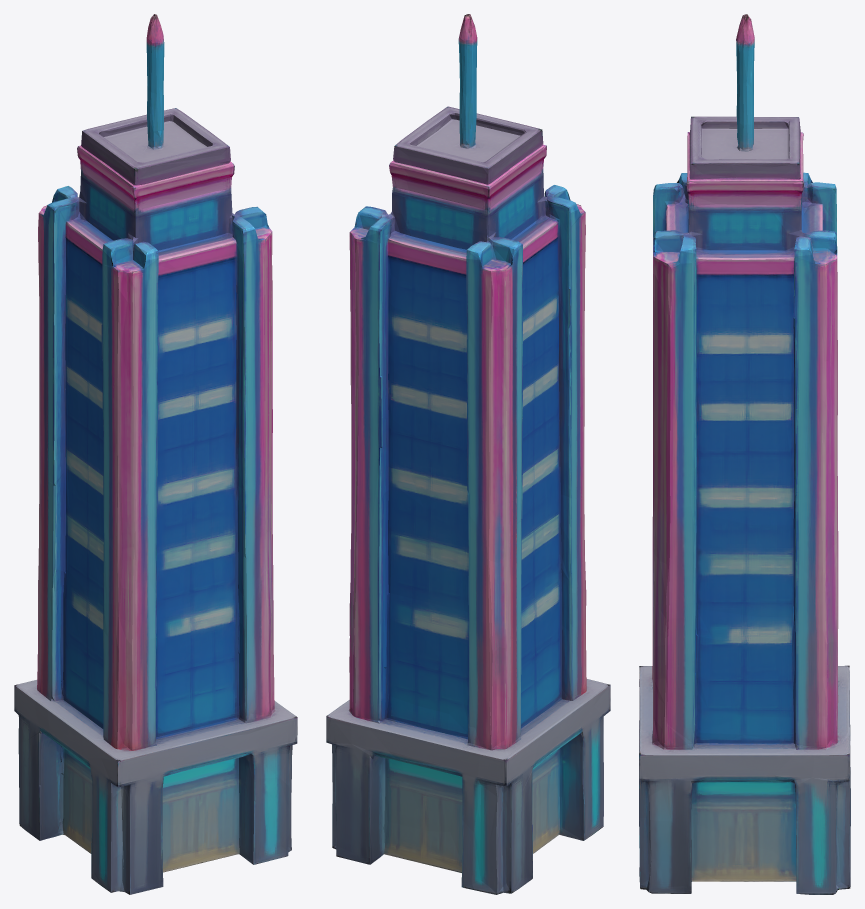
The model's file is skyscraper_neon.glb.
3 views of the same model, side by side, from view 1: azimuth 30°, elevation 25°; view 2: azimuth 150°, elevation 25°; view 3: azimuth 270°, elevation 25° (orthographic).
Parts seen in each view (by area): view 1: geometry_0; view 2: geometry_0; view 3: geometry_0.
Part boxes in pixels (box(x1,y1,x2,y2)): geometry_0: box(14, 14, 297, 894); geometry_0: box(326, 14, 610, 894); geometry_0: box(639, 14, 850, 894).
Bounding box in the file's own units: 0.2309 × 1 × 0.2301.
1 material, 1 textured.
